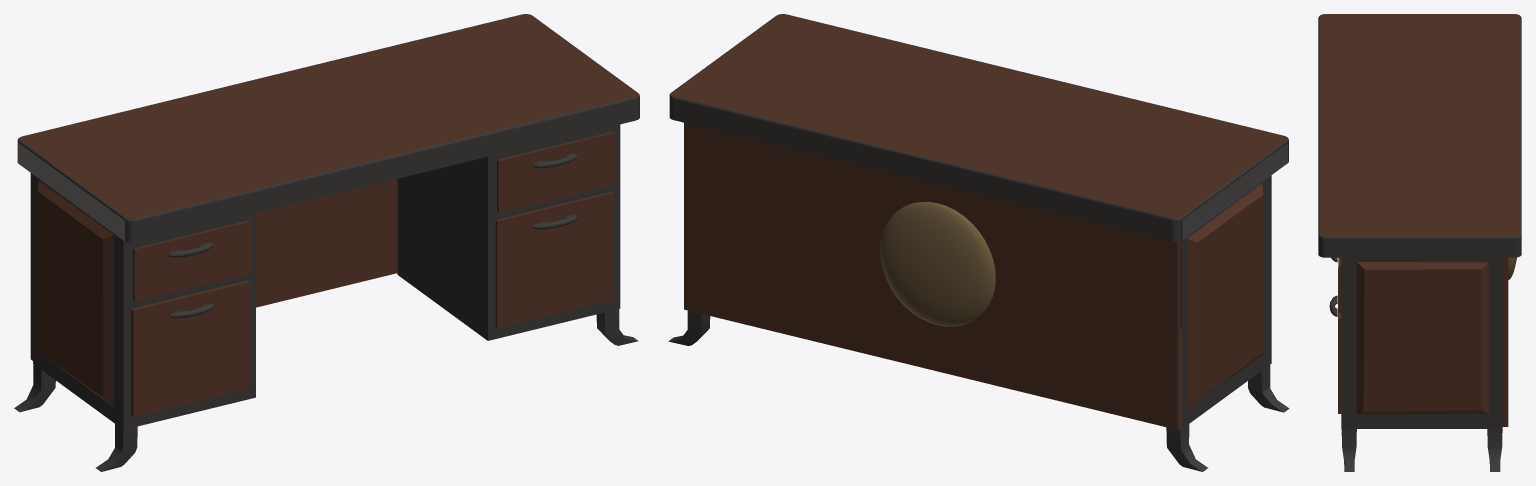
The model's file is Principal_Desk.fbx.
3 renders of one model, left to right at view 1: azimuth 30°, elevation 25°; view 2: azimuth 150°, elevation 25°; view 3: azimuth 270°, elevation 25°, orthographic. The views are drawn at different scales.
Visible parts, largest first — view 1: table_top, pCube4, back_wall, left_fancy_side, left_lower_drawer, right_lower_drawer, pCube3, right_upper_drawer, left_uppper_drawer, leg1, leg2, leg3; view 2: back_wall, table_top, left_fancy_side, pSphere1, pCube3, leg2, leg1, leg4; view 3: table_top, left_fancy_side1, pCube4, back_wall, leg4, leg3, right_lower_drawer.
Boxes of the visible parts, x1,y1,x2,y2 form: table_top: (17, 14, 639, 242); pCube4: (397, 124, 620, 340); back_wall: (30, 173, 397, 360); left_fancy_side: (37, 181, 113, 406); left_lower_drawer: (131, 280, 249, 417); right_lower_drawer: (495, 191, 613, 327); pCube3: (33, 174, 255, 429); right_upper_drawer: (497, 131, 614, 213); left_uppper_drawer: (133, 220, 250, 301); leg1: (96, 424, 137, 471); leg2: (14, 364, 55, 412); leg3: (596, 309, 637, 345); back_wall: (684, 122, 1180, 429); table_top: (669, 14, 1288, 241); left_fancy_side: (1187, 183, 1263, 408); pSphere1: (880, 202, 995, 326); pCube3: (1180, 175, 1271, 429); leg2: (1166, 420, 1207, 471); leg1: (1248, 365, 1289, 412); leg4: (668, 310, 710, 345); table_top: (1318, 14, 1521, 257); left_fancy_side1: (1356, 262, 1488, 414); pCube4: (1341, 257, 1502, 428); back_wall: (1502, 257, 1508, 426); leg4: (1487, 429, 1502, 471); leg3: (1341, 429, 1356, 471); right_lower_drawer: (1338, 268, 1341, 413).
Bounding box in the file's own units: 1.74 × 0.8027 × 0.6412.
